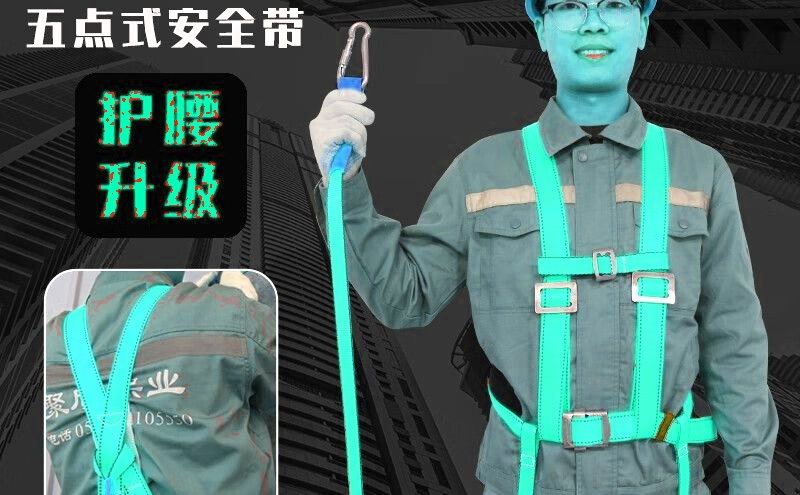safety belt: (447, 126, 713, 491)
